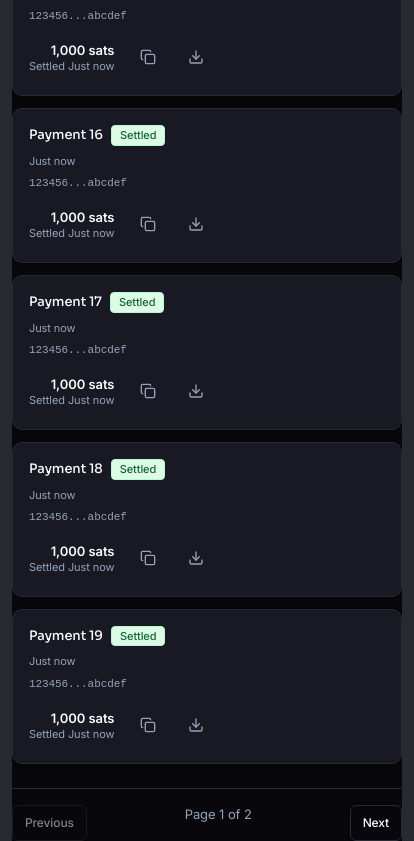
Scenario: PaymentHistory › Pagination › disables next button on last page
This screenshot has width=414, height=841.
(page scrolled)
// Click one of them to go to last page
Step 1. Click the button "Next" → x=376, y=823, box [350,805,402,840]
(page scrolled)
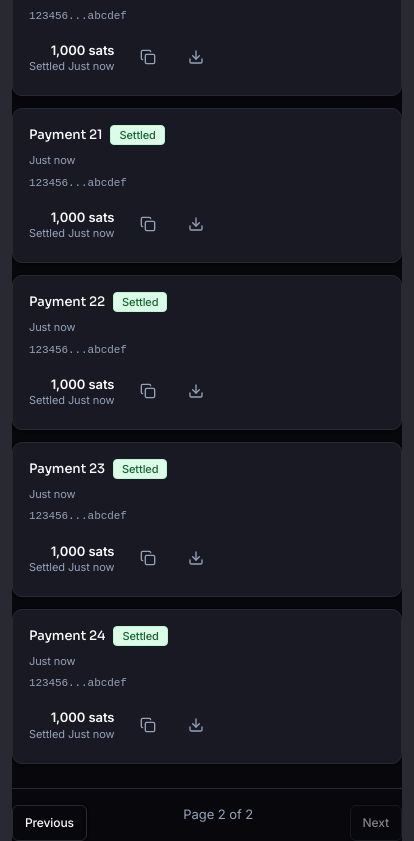
Check: the button "Next" is disabled, box [350,805,402,840]
